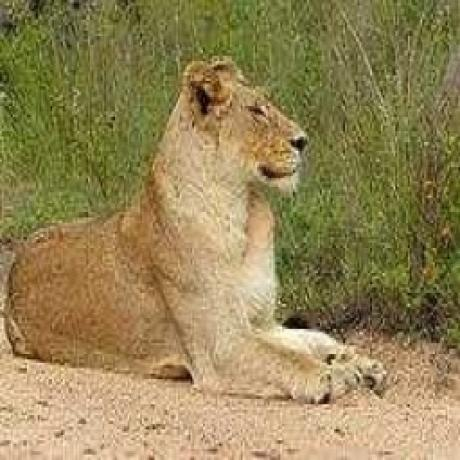Lion: (4, 49, 390, 406)
